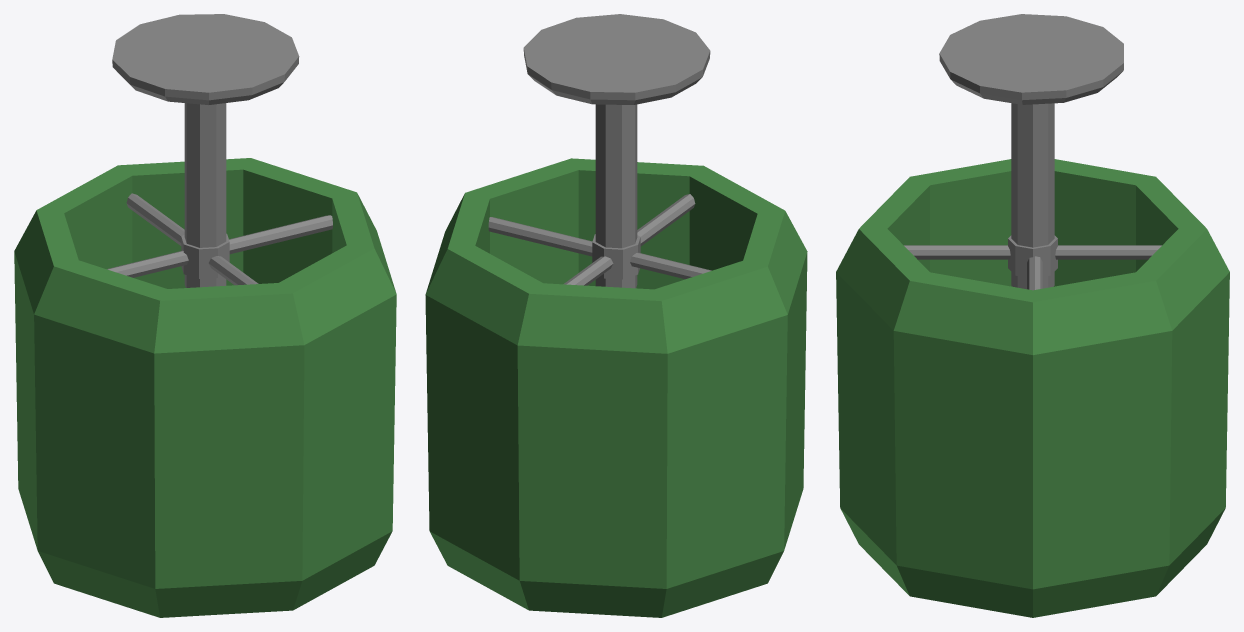
File: cieling_light.gltf
3 renders of one model, left to right at view 1: azimuth 30°, elevation 25°; view 2: azimuth 150°, elevation 25°; view 3: azimuth 270°, elevation 25°, orthographic.
Visible parts, largest first — view 1: Ceiling light; view 2: Ceiling light; view 3: Ceiling light.
Part boxes in pixels (x1,y1,x2,y2): Ceiling light: (14,14,396,617); Ceiling light: (425,14,807,617); Ceiling light: (836,14,1229,617).
Bounding box in the file's own units: 3.07 × 4.23 × 3.07.
